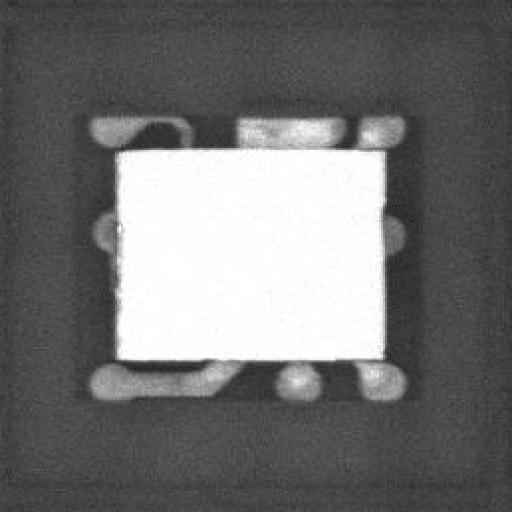DIE_BROKEN: (111, 205, 123, 315)
